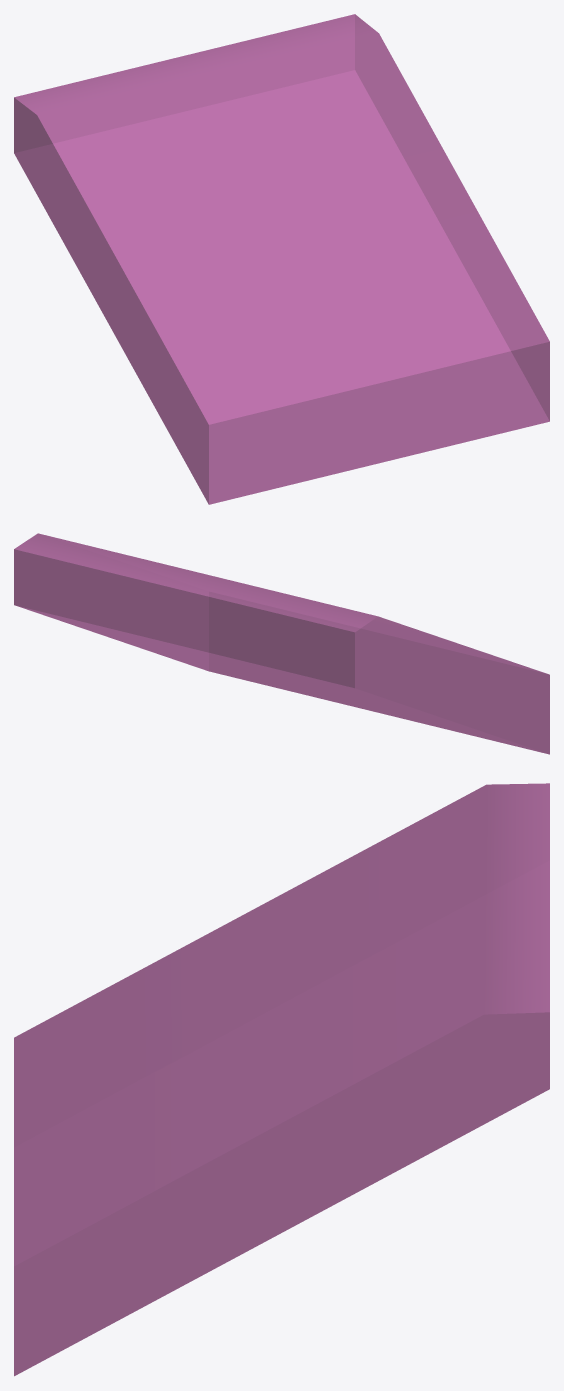
File: SM_Bld_Base_Stairs_01_Collision.fbx
The picture shows the model from 3 angles, top to bottom: view 1: azimuth 30°, elevation 25°; view 2: azimuth 150°, elevation 25°; view 3: azimuth 270°, elevation 25°; orthographic projection. The views are drawn at different scales.
Parts seen in each view (by area): view 1: SM_Bld_Base_Stairs_01_Collision; view 2: SM_Bld_Base_Stairs_01_Collision; view 3: SM_Bld_Base_Stairs_01_Collision.
Boxes of the visible parts, bbox=[...] form: SM_Bld_Base_Stairs_01_Collision: bbox=[14, 14, 549, 504]; SM_Bld_Base_Stairs_01_Collision: bbox=[14, 533, 549, 754]; SM_Bld_Base_Stairs_01_Collision: bbox=[14, 783, 549, 1376].
Bounding box in the file's own units: 259 × 192 × 257.
